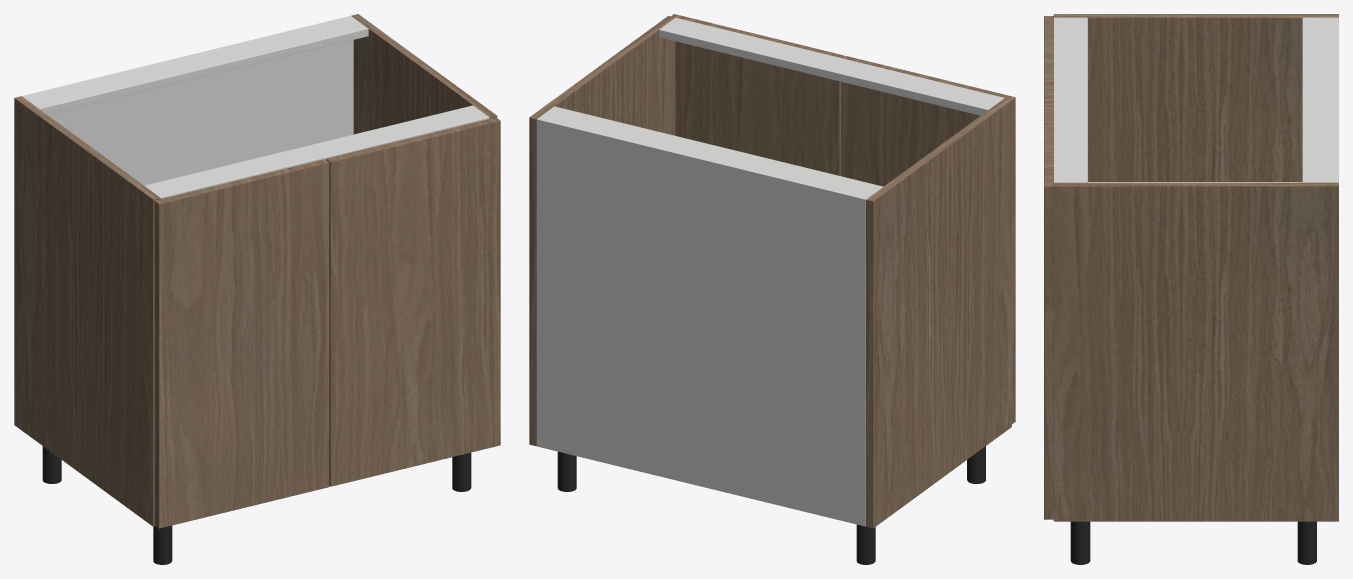
Rendered from oppein-pb-mnw-b33fh.glb.
3 renders of one model, left to right at view 1: azimuth 30°, elevation 25°; view 2: azimuth 150°, elevation 25°; view 3: azimuth 270°, elevation 25°, orthographic. The views are drawn at different scales.
Visible parts, largest first — view 1: Door, Door.001, Cabinet side, Cabinet back, Cabinet side.001, Top support rail, Top support rail.001, Adjustable foot.001, Adjustable foot.003, Adjustable foot; view 2: Cabinet back, Cabinet side, Door.001, Door, Cabinet side.001, Top support rail.001, Top support rail, Cabinet bottom, Adjustable foot, Adjustable foot.002; view 3: Cabinet side.001, Cabinet side, Top support rail.001, Top support rail, Door.001, Cabinet back, Adjustable foot.003, Adjustable foot.002, Door.
Part boxes in pixels (box(x1,y1,x2,y2)): Door: box(154, 159, 329, 528); Door.001: box(326, 117, 500, 486); Cabinet side: box(14, 96, 160, 526); Cabinet back: box(22, 16, 353, 185); Cabinet side.001: box(351, 14, 497, 134); Top support rail: box(24, 17, 368, 114); Top support rail.001: box(144, 105, 489, 198); Adjustable foot.001: box(153, 525, 172, 564); Adjustable foot.003: box(452, 452, 471, 491); Adjustable foot: box(42, 446, 61, 483); Cabinet back: box(536, 117, 867, 526); Cabinet side: box(866, 98, 1011, 528); Door.001: box(671, 14, 844, 175); Door: box(841, 56, 1015, 423); Cabinet side.001: box(529, 16, 675, 446); Top support rail.001: box(659, 17, 1004, 115); Top support rail: box(540, 106, 883, 197); Cabinet bottom: box(537, 439, 865, 526); Adjustable foot: box(856, 524, 875, 564); Adjustable foot.002: box(557, 451, 576, 491); Cabinet side.001: box(1053, 182, 1338, 521); Cabinet side: box(1053, 14, 1338, 181); Top support rail.001: box(1053, 17, 1087, 182); Top support rail: box(1302, 17, 1333, 182); Door.001: box(1044, 101, 1053, 519); Cabinet back: box(1333, 17, 1338, 182); Adjustable foot.003: box(1070, 521, 1090, 564); Adjustable foot.002: box(1297, 521, 1316, 564); Door: box(1044, 16, 1053, 101).
Size of the model in its own units: 0.8382 by 0.8763 by 0.6064.
Materials: 3 (1 with a texture image).
